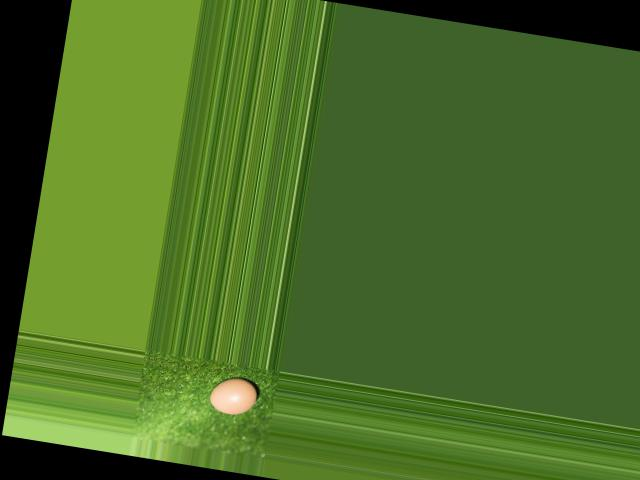egg: (207, 373, 259, 417)
